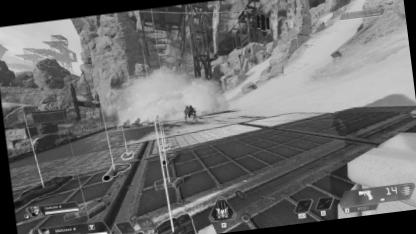Target: (182, 102, 198, 124)
